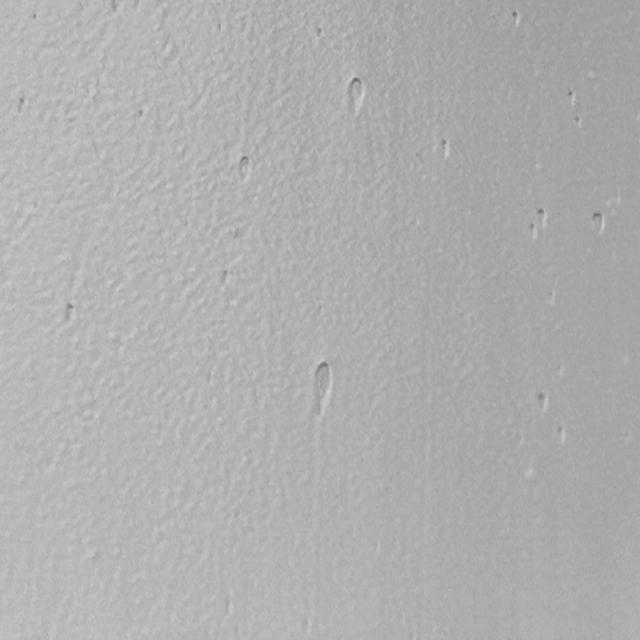pin holes: (307, 361, 335, 409), (345, 76, 367, 112), (234, 154, 254, 183), (59, 302, 81, 328), (588, 208, 609, 235), (534, 389, 554, 414), (534, 206, 552, 232), (218, 265, 232, 294), (436, 138, 454, 160), (14, 93, 31, 115), (525, 221, 540, 245), (553, 424, 568, 445), (509, 8, 523, 30), (109, 0, 125, 17), (315, 24, 327, 42), (566, 89, 578, 106), (573, 116, 584, 131)
